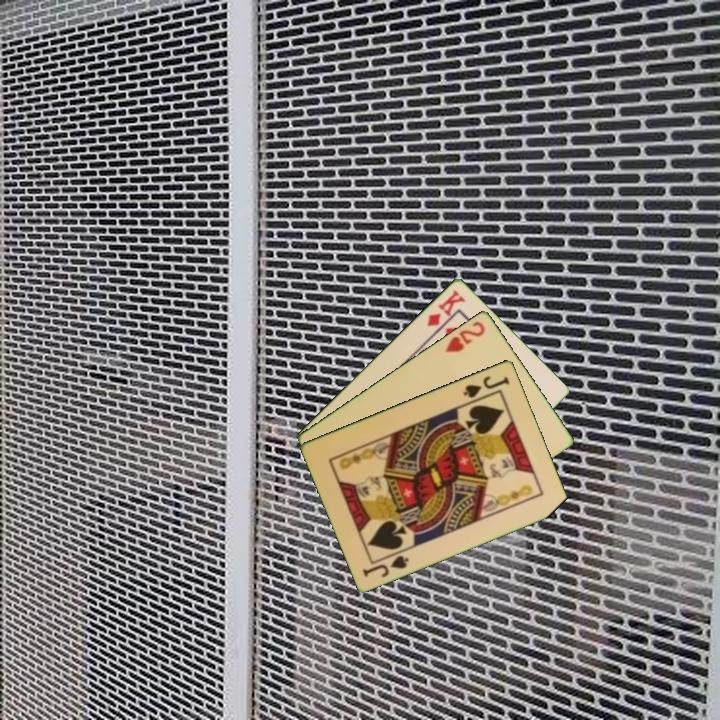2h: (442, 317, 488, 355)
Js: (460, 372, 513, 401), (359, 551, 412, 580)
Kd: (424, 285, 468, 329)
